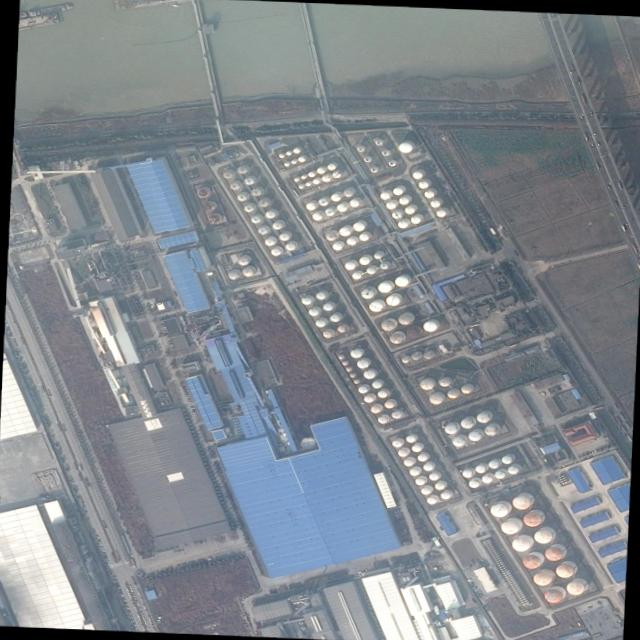large-vehicle: (630, 243, 637, 252), (579, 94, 584, 103), (568, 63, 573, 71), (616, 181, 621, 188), (620, 224, 624, 230)
ship: (26, 2, 71, 16)
small-vehicle: (170, 3, 180, 7)
storage-tank: (511, 494, 530, 509), (522, 511, 541, 526), (532, 528, 551, 543), (510, 536, 528, 551), (543, 545, 561, 560), (542, 588, 561, 602), (565, 580, 584, 594), (521, 554, 539, 568), (489, 502, 507, 516), (500, 519, 518, 533), (532, 571, 550, 585), (554, 563, 572, 577), (397, 312, 411, 324), (427, 392, 442, 403), (418, 378, 432, 389), (376, 281, 390, 292), (393, 275, 407, 286), (367, 300, 381, 311), (384, 294, 398, 305), (388, 332, 402, 343), (405, 325, 419, 336), (422, 320, 436, 331), (397, 141, 411, 152), (380, 319, 393, 330), (451, 435, 464, 446), (475, 411, 488, 422), (359, 287, 373, 297), (442, 423, 456, 433), (466, 430, 480, 440), (482, 424, 496, 434), (459, 417, 472, 427), (362, 368, 374, 378), (437, 376, 449, 386), (226, 269, 238, 279), (337, 226, 349, 236), (355, 358, 368, 367), (348, 348, 361, 357), (459, 384, 471, 393), (357, 255, 369, 264), (201, 201, 213, 210), (206, 213, 218, 222), (236, 255, 248, 264), (241, 266, 253, 275), (351, 221, 363, 230), (370, 379, 381, 388), (376, 414, 387, 423), (500, 454, 511, 463), (493, 469, 504, 478), (427, 471, 438, 480), (467, 478, 478, 487), (343, 260, 354, 269), (263, 236, 274, 245), (314, 290, 325, 299), (321, 301, 332, 310), (256, 225, 267, 234), (196, 187, 207, 196), (378, 190, 389, 199), (335, 202, 346, 211), (324, 231, 335, 240), (445, 389, 457, 397), (356, 384, 366, 393), (425, 495, 435, 504), (461, 468, 471, 477), (314, 317, 324, 326), (278, 231, 288, 240), (300, 295, 310, 304), (221, 169, 231, 178), (236, 164, 246, 173), (397, 195, 407, 204), (417, 179, 427, 188), (345, 236, 355, 245), (396, 448, 407, 456), (409, 351, 420, 359), (421, 462, 432, 470), (506, 465, 517, 473), (487, 459, 498, 467), (474, 464, 485, 472), (480, 474, 491, 482), (307, 307, 318, 315), (428, 199, 439, 207), (249, 214, 260, 222), (228, 181, 239, 189), (235, 192, 246, 200), (409, 215, 420, 223), (390, 210, 401, 218), (384, 200, 395, 208), (391, 186, 402, 194), (304, 201, 315, 209), (329, 192, 340, 200), (330, 241, 341, 249), (369, 404, 379, 412), (376, 389, 386, 397), (362, 394, 372, 402), (383, 399, 393, 407), (410, 443, 420, 451), (422, 350, 432, 358), (408, 467, 418, 475), (414, 476, 424, 484), (433, 481, 443, 489), (419, 486, 429, 494), (439, 490, 449, 498), (435, 208, 445, 216), (269, 247, 279, 255), (284, 242, 294, 250), (328, 313, 338, 321), (336, 324, 346, 332), (264, 209, 274, 217), (243, 176, 253, 184), (250, 187, 260, 195), (243, 203, 253, 211), (257, 198, 267, 206), (396, 219, 406, 227), (403, 205, 413, 213), (411, 170, 421, 178), (423, 189, 433, 197), (311, 211, 321, 219), (323, 207, 333, 215), (317, 197, 327, 205), (348, 198, 358, 206), (390, 410, 399, 418), (405, 434, 414, 442), (358, 232, 367, 240), (342, 188, 351, 196), (416, 453, 426, 460), (390, 439, 400, 446), (350, 271, 360, 278), (365, 266, 375, 273), (402, 458, 412, 465), (321, 329, 331, 336), (271, 221, 281, 228), (372, 251, 381, 258), (362, 154, 371, 161), (380, 148, 389, 155), (320, 174, 329, 181), (315, 166, 324, 173), (325, 162, 334, 169), (331, 170, 340, 177), (379, 261, 387, 268), (356, 144, 364, 151), (369, 165, 377, 172), (373, 138, 382, 144), (386, 159, 395, 165), (291, 146, 299, 152), (296, 155, 304, 161), (306, 170, 314, 176), (352, 377, 359, 383), (400, 356, 407, 362), (311, 177, 318, 183), (348, 371, 355, 376), (340, 359, 347, 364), (336, 353, 342, 358), (277, 152, 283, 157), (289, 158, 295, 163), (292, 176, 298, 181), (345, 365, 350, 370), (297, 183, 302, 188), (284, 150, 290, 154), (299, 174, 305, 178), (282, 161, 287, 165), (297, 619, 302, 623), (304, 181, 309, 185), (105, 277, 109, 281), (300, 625, 304, 628)
